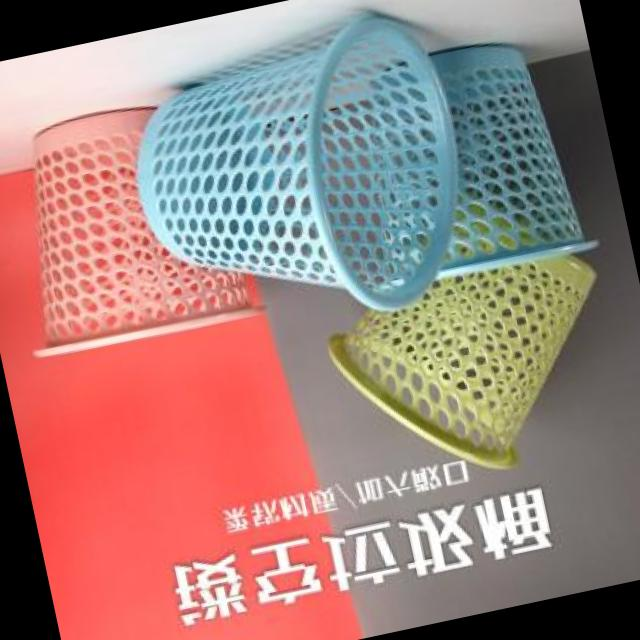dustbin: (104, 0, 494, 362), (313, 238, 638, 510), (0, 80, 276, 373), (320, 29, 584, 298)
